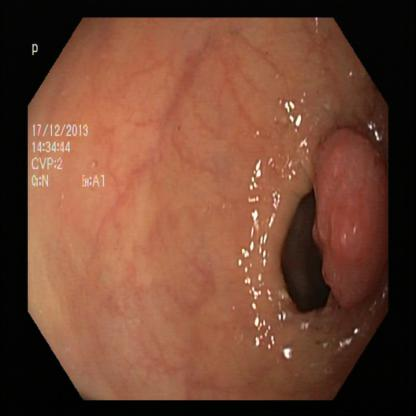Labels: (29, 112, 111, 193), (24, 38, 45, 56)
Polyps: (312, 108, 386, 309)
